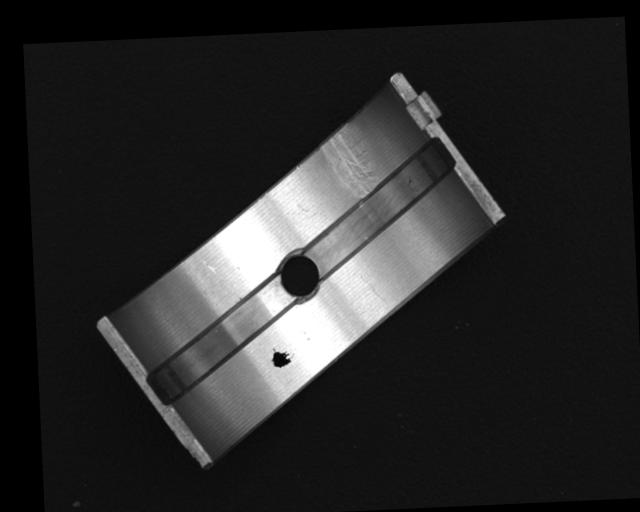blot: (269, 344, 296, 369)
gap: (300, 141, 455, 280), (143, 281, 295, 405)
hole: (277, 252, 320, 299)
nick: (201, 258, 241, 303), (360, 272, 385, 306)
scratch: (320, 125, 378, 199)
